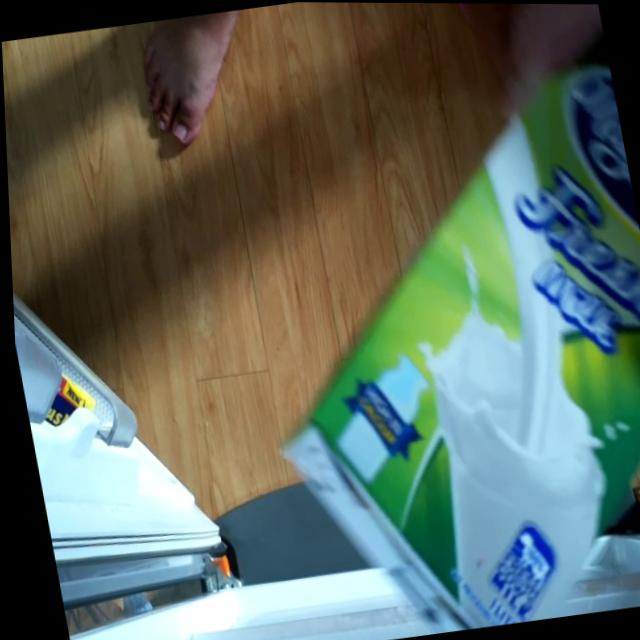milk: (206, 43, 640, 640)
